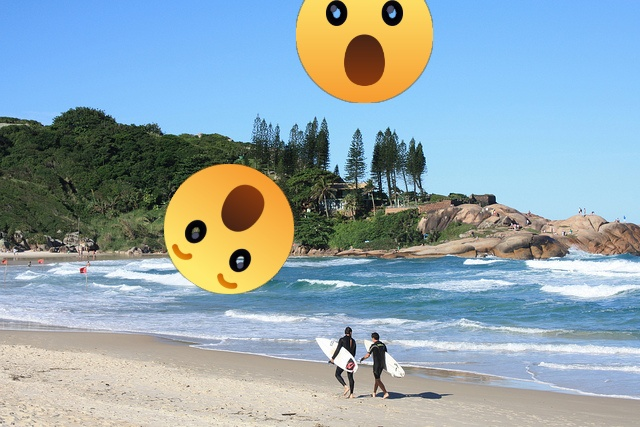wow: (164, 164, 294, 294), (296, 0, 433, 103)
